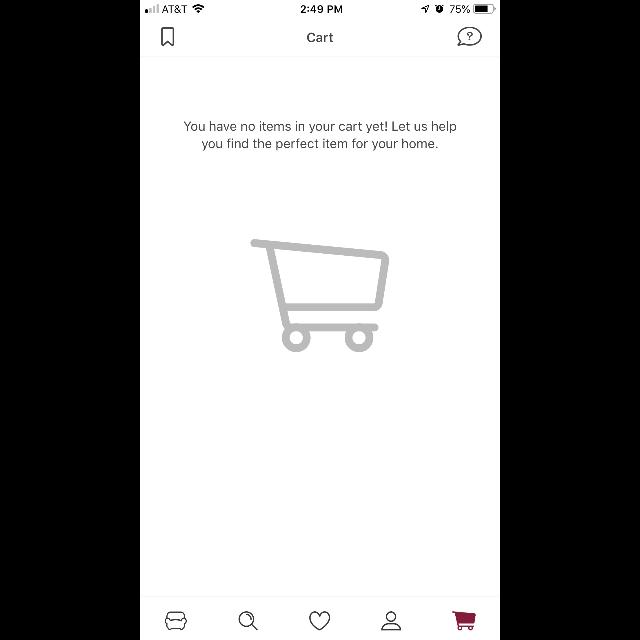icon: (250, 240, 390, 352), (452, 611, 476, 631), (458, 28, 482, 46), (238, 612, 258, 630), (310, 612, 330, 630), (381, 612, 401, 630), (162, 28, 174, 46)
image: (165, 612, 187, 630)
text: (184, 121, 456, 151), (307, 33, 333, 43)
uppertaskbar: (140, 0, 500, 14)
